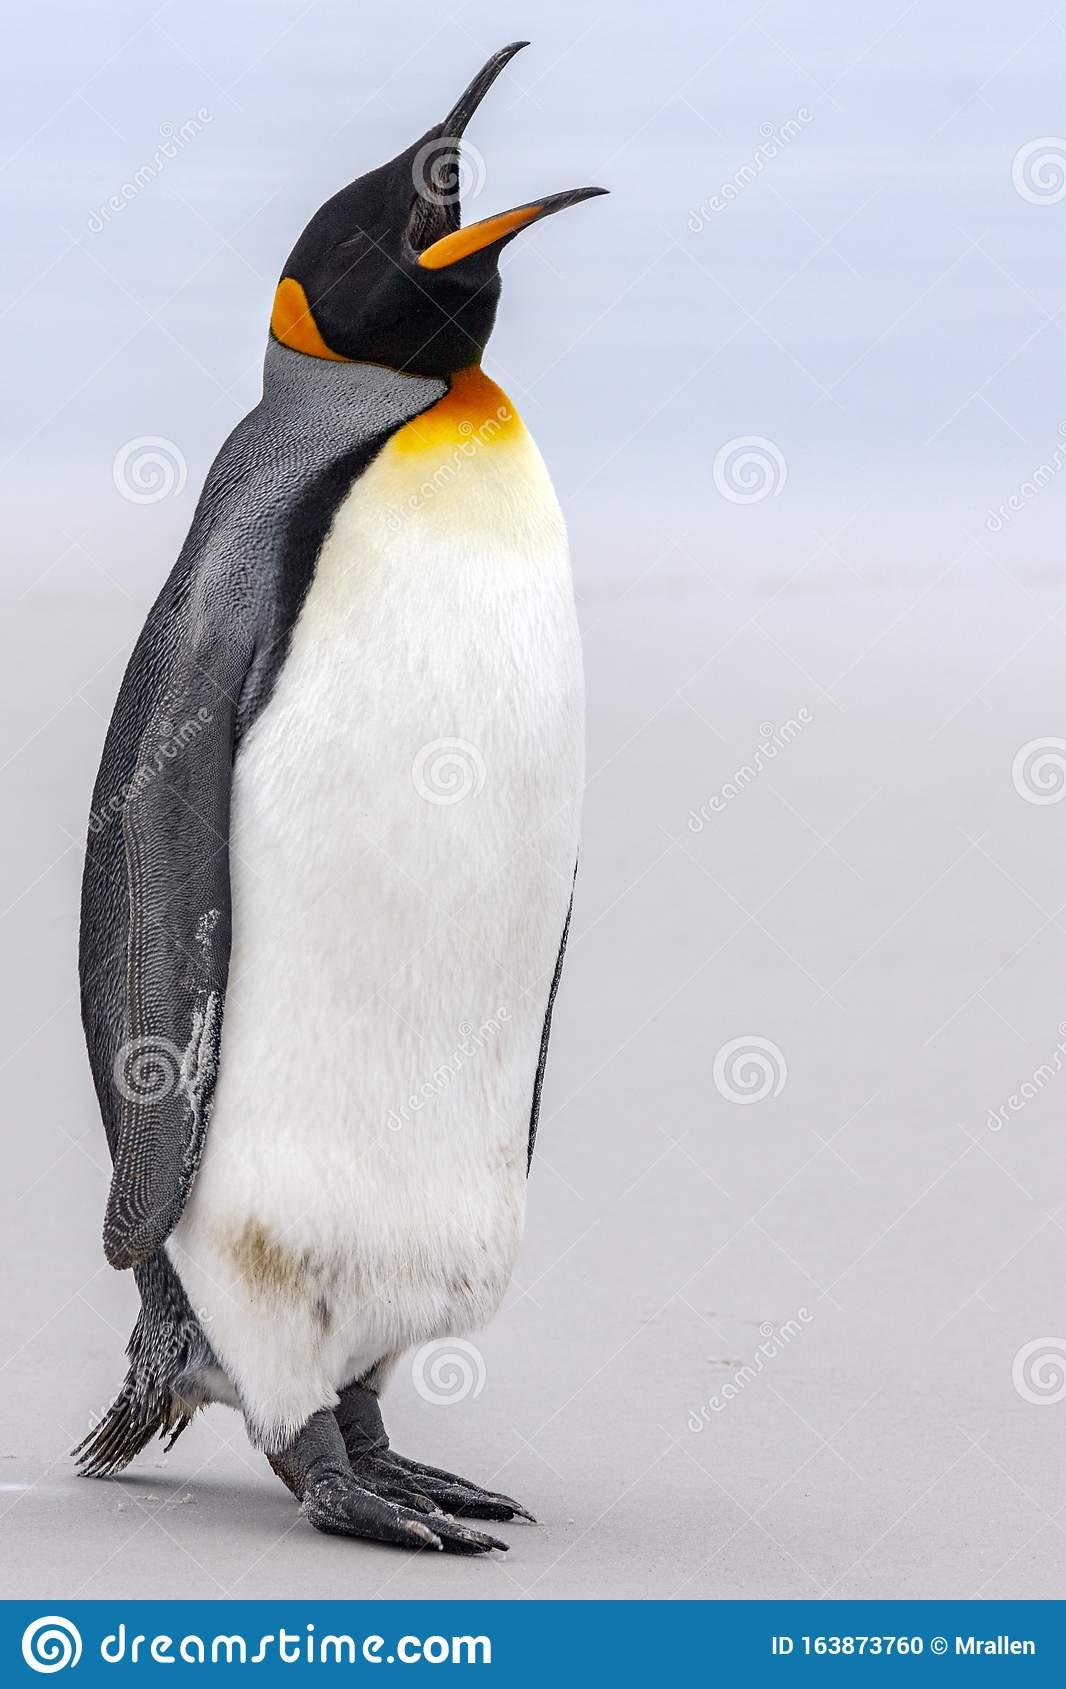king: (75, 23, 658, 1586)
